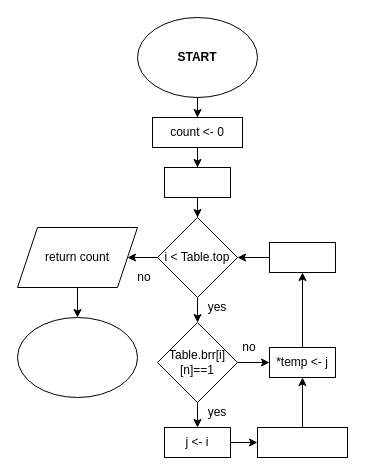
Some shapes in this 365 by 475 pixel diagram are drawn without their labels. Here are the shapes that lost their labels. From the top down, the centre of each, then its label:
At point 197,182: "i <- 0".
At point 302,257: "i++".
At point 77,357: "FINISH".
At point 302,442: "count++".
